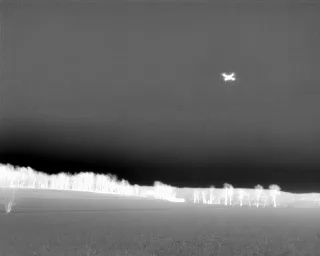DRONE: (218, 68, 241, 87)
